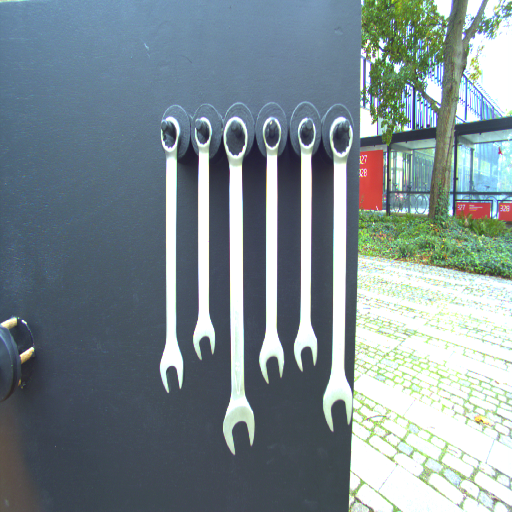bottom: (220, 398, 259, 457), (321, 378, 355, 433), (156, 343, 187, 392), (254, 337, 286, 382), (292, 324, 319, 373), (191, 318, 219, 362)
top: (222, 115, 250, 166), (328, 114, 356, 161), (295, 114, 320, 154), (192, 114, 217, 153), (260, 115, 284, 155), (158, 116, 181, 156)
